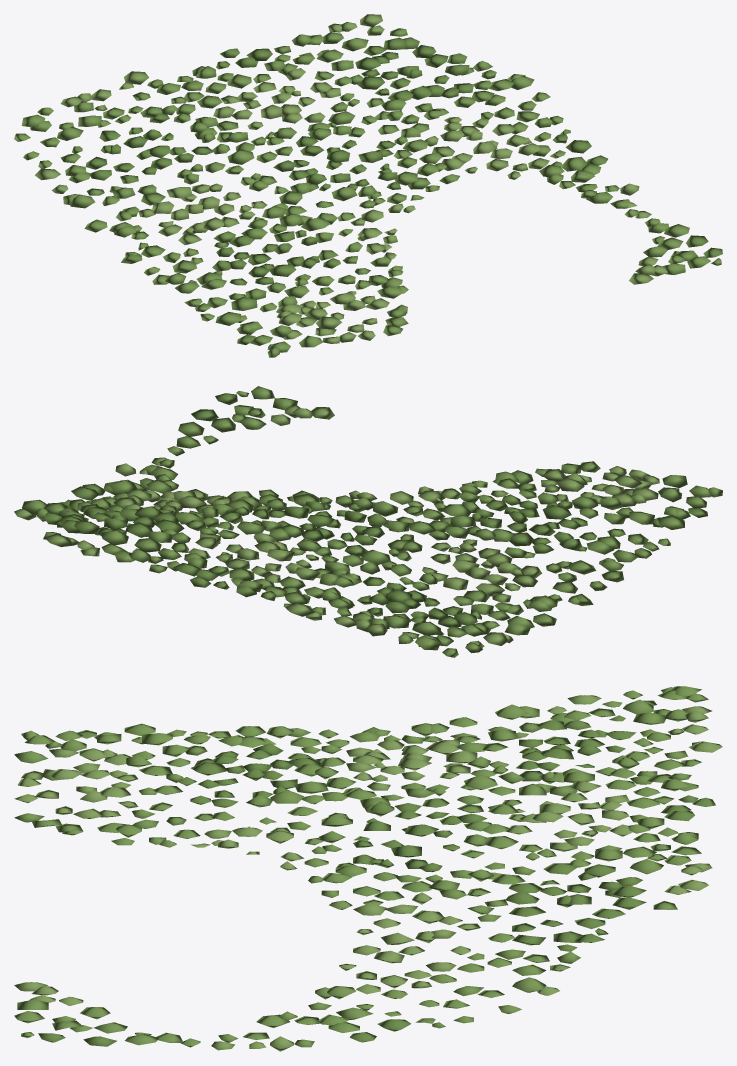
Rendered from canopy-1--3-1.glb.
3 renders of one model, top to bottom at view 1: azimuth 30°, elevation 25°; view 2: azimuth 150°, elevation 25°; view 3: azimuth 270°, elevation 25°, orthographic. The views are drawn at different scales.
Size of the model in its own units: 518 by 92.5 by 512.
Materials: 1 (1 with a texture image).
